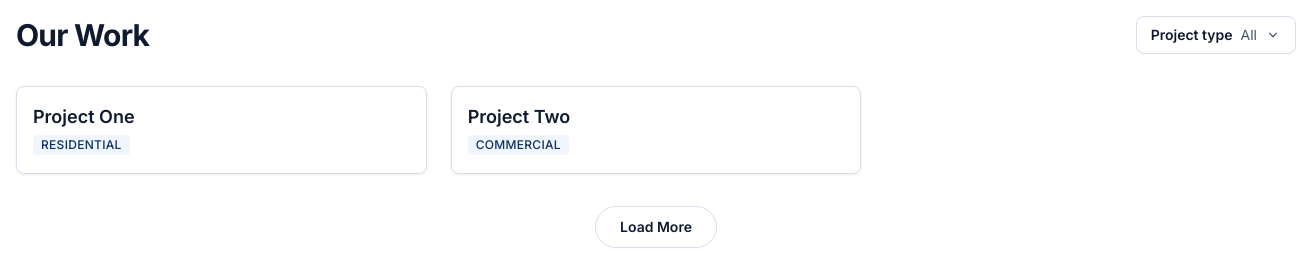
PortfolioSection › appends items and hides button when all items loaded
Check: the link "Project One" is shown, box [33, 106, 134, 127]
Click the button "Load More".
click(656, 227)  # box [595, 206, 717, 248]
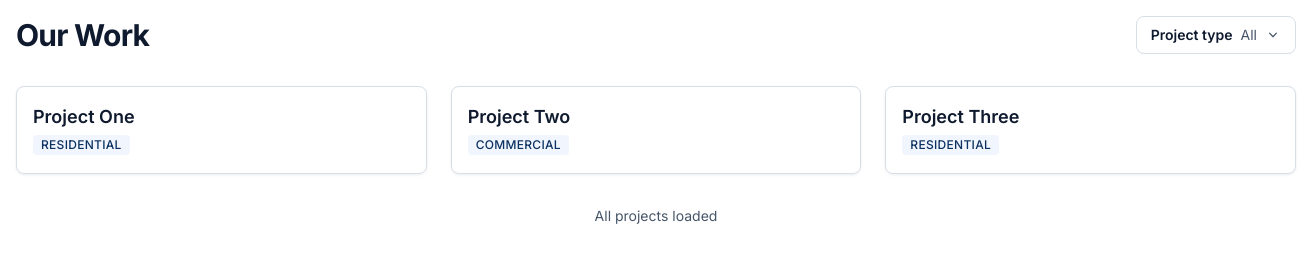
Check: the link "Project Three" is shown, box [902, 106, 1019, 127]
Check: the button "Load More" is gone
Check: the text "All projects loaded" is shown, box [595, 207, 717, 224]
